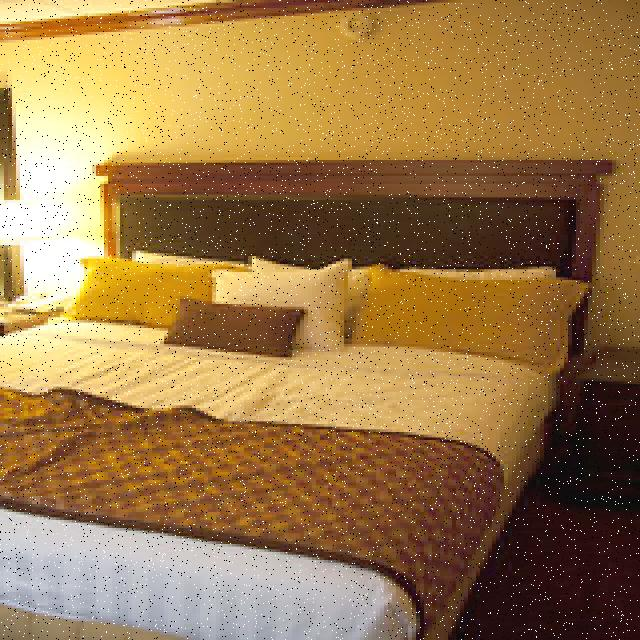bed: (2, 227, 570, 640)
